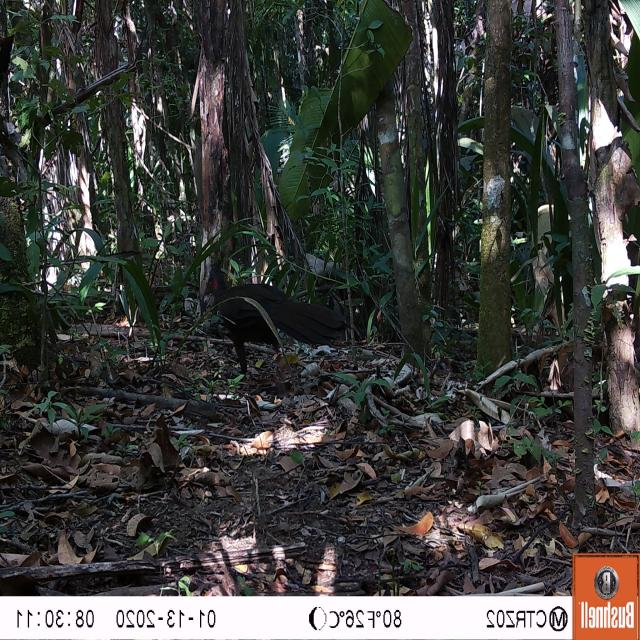Spixs Guan: (204, 266, 347, 386)
